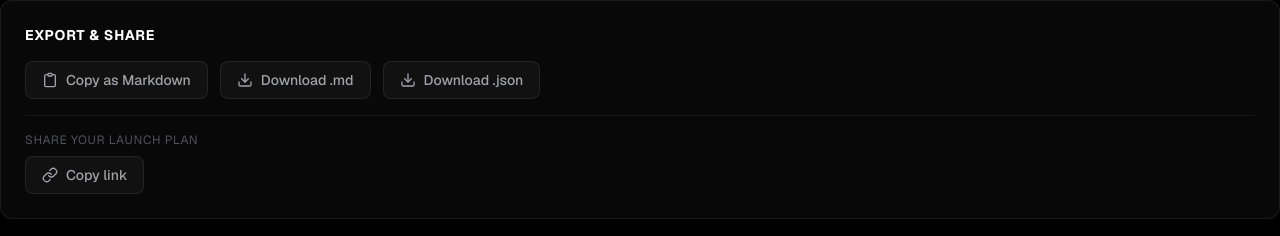
Test case: ExportPanel › copies markdown to clipboard and shows feedback
Click the button with aria-label "Copy launch plan as Markdown" at coordinates (116, 80), box x1=25 y1=61 x2=208 y2=99
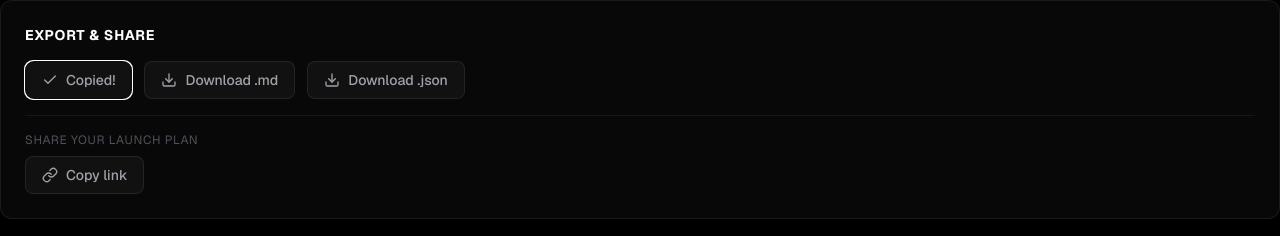
expect the text "Copied!" is shown: met, box x1=66 y1=70 x2=115 y2=90
